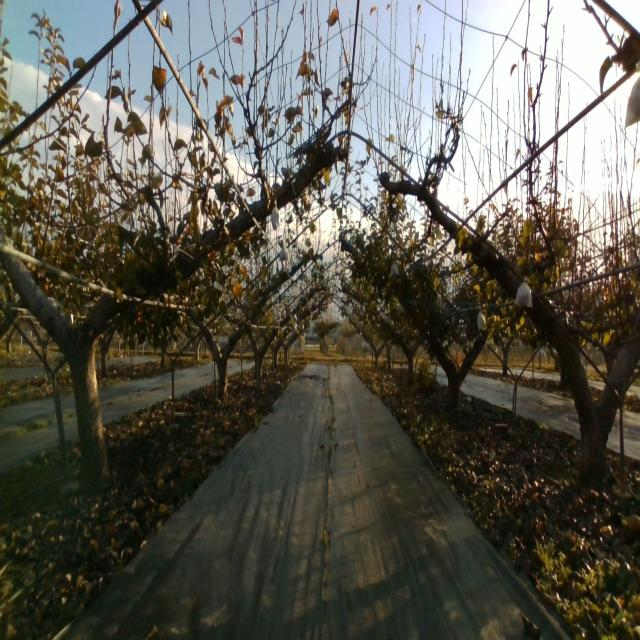pearbags: (514, 277, 533, 308)
